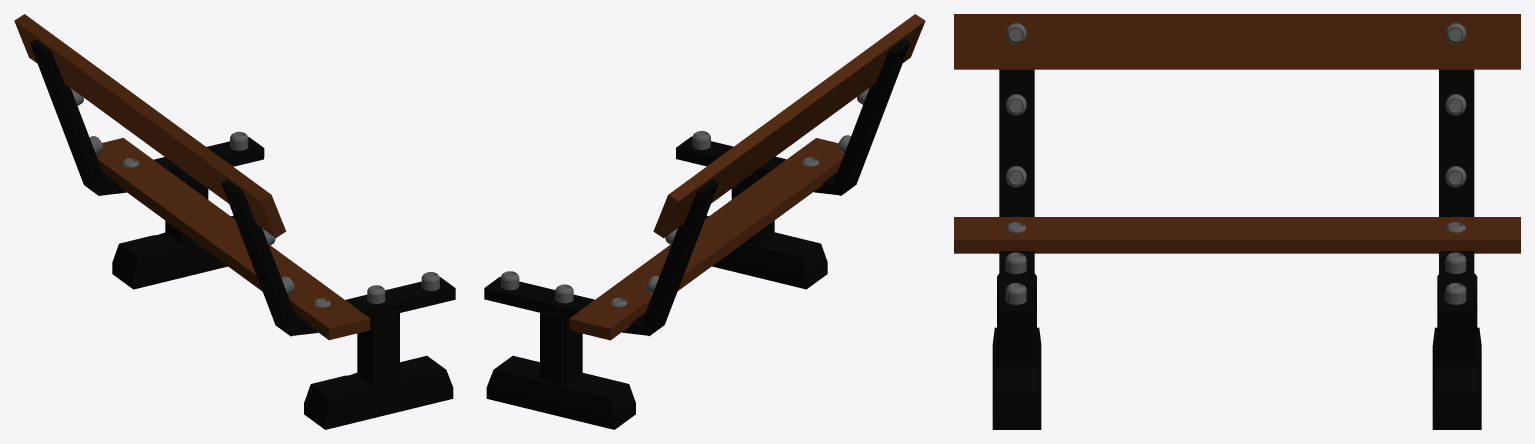
The model's file is lawkazserialuranczo.dae.
3 views of the same model, side by side, from view 1: azimuth 30°, elevation 25°; view 2: azimuth 150°, elevation 25°; view 3: azimuth 270°, elevation 25° (orthographic). The views are drawn at different scales.
Parts seen in each view (by area): view 1: Kostka, Kostka.001, Kostka.006, Kostka.007, Kostka.005, Kostka.003, Kostka.004, Kostka.002; view 2: Kostka, Kostka.001, Kostka.007, Kostka.006, Kostka.003, Kostka.005, Kostka.002, Kostka.004; view 3: Kostka.001, Kostka, Kostka.006, Kostka.007, Kostka.003, Kostka.005, Kostka.004, Kostka.002.
Part boxes in pixels (x1,y1,x2,y2): Kostka: (96, 138, 370, 340); Kostka.001: (14, 14, 286, 237); Kostka.006: (304, 310, 453, 429); Kostka.007: (112, 174, 234, 289); Kostka.005: (30, 39, 109, 196); Kostka.003: (221, 179, 300, 336); Kostka.004: (292, 277, 455, 335); Kostka.002: (101, 137, 264, 195); Kostka: (569, 138, 844, 340); Kostka.001: (653, 14, 925, 238); Kostka.007: (486, 310, 635, 429); Kostka.006: (705, 174, 827, 289); Kostka.003: (832, 39, 910, 195); Kostka.005: (641, 179, 718, 336); Kostka.002: (484, 277, 648, 335); Kostka.004: (676, 136, 840, 195); Kostka.001: (954, 14, 1520, 69); Kostka: (954, 217, 1520, 253); Kostka.006: (992, 274, 1041, 429); Kostka.007: (1432, 273, 1481, 429); Kostka.003: (999, 69, 1034, 216); Kostka.005: (1439, 69, 1474, 216); Kostka.004: (999, 251, 1034, 323); Kostka.002: (1439, 251, 1474, 323).
Size of the model in its own units: 3.11 by 6.06 by 3.59.
